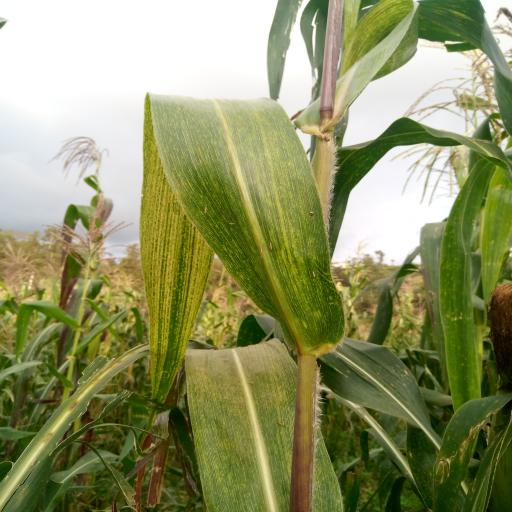Corn_Streak: (143, 87, 326, 406), (184, 341, 344, 512)
